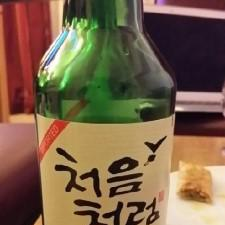soju: (34, 1, 179, 224)
